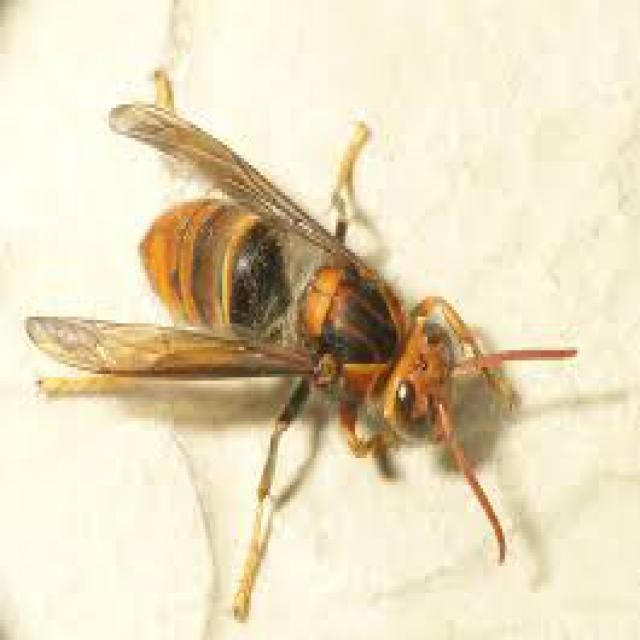Vespa Velutina: (19, 57, 584, 637)
